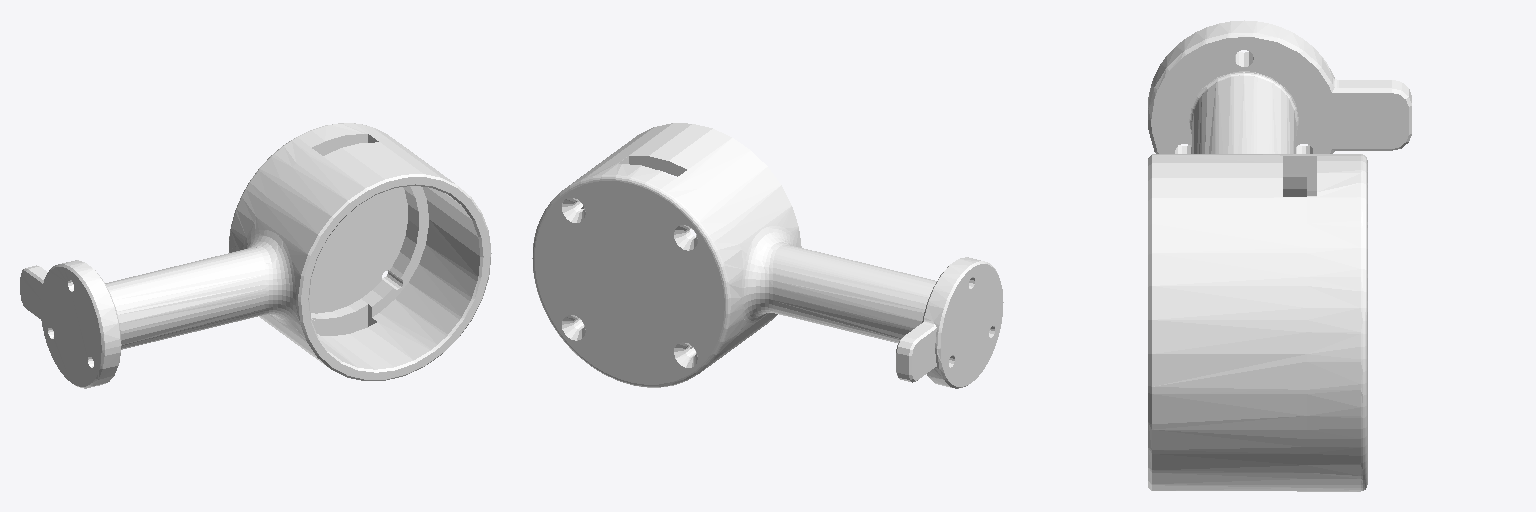
URDF robot description (mobiman/urdf/R1_PRO):
<?xml version="1.0" encoding="utf-8"?>
<!-- This URDF was automatically created by SolidWorks to URDF Exporter! Originally created by [author] ([email redacted]) 
     Commit Version: 1.6.0-4-g7f85cfe  Build Version: 1.6.7995.38578
     For more information, please see http://wiki.ros.org/sw_urdf_exporter -->
<robot
  name="mobiman/urdf/R1_PRO">
  <link
    name="torso_link4">
    <inertial>
      <origin
        xyz="-0.0025153 3.1179E-07 0.35873"
        rpy="0 0 0" />
      <mass
        value="16.778" />
      <inertia
        ixx="0.015187"
        ixy="7.199E-08"
        ixz="0.00054617"
        iyy="0.013478"
        iyz="-2.0225E-07"
        izz="0.017316" />
    </inertial>
    <visual>
      <origin
        xyz="0 0 0"
        rpy="0 0 0" />
      <geometry>
        <mesh
          filename="package://mobiman/urdf/R1_PRO/meshes/torso_link4.STL" />
      </geometry>
      <material
        name="">
        <color
          rgba="0.79216 0.81961 0.93333 1" />
      </material>
    </visual>
    <collision>
      <origin
        xyz="0 0 0"
        rpy="0 0 0" />
      <geometry>
        <mesh
          filename="package://mobiman/urdf/R1_PRO/meshes/torso_link4.STL" />
      </geometry>
    </collision>
  </link>
  <link
    name="left_arm_link1">
    <inertial>
      <origin
        xyz="0.0020734 0.00846 0.19171"
        rpy="0 0 0" />
      <mass
        value="1.319" />
      <inertia
        ixx="0.00058101"
        ixy="7.5672E-09"
        ixz="2.9207E-08"
        iyy="0.00070857"
        iyz="8.5639E-07"
        izz="0.00044583" />
    </inertial>
    <visual>
      <origin
        xyz="0 0 0"
        rpy="0 0 0" />
      <geometry>
        <mesh
          filename="package://mobiman/urdf/R1_PRO/meshes/left_arm_link1.STL" />
      </geometry>
      <material
        name="">
        <color
          rgba="0.79216 0.81961 0.93333 1" />
      </material>
    </visual>
    <collision>
      <origin
        xyz="0 0 0"
        rpy="0 0 0" />
      <geometry>
        <mesh
          filename="package://mobiman/urdf/R1_PRO/meshes/left_arm_link1.STL" />
      </geometry>
    </collision>
  </link>
  <joint
    name="left_arm_joint1"
    type="revolute">
    <origin
      xyz="-0.00033786 0.13608 0.27773"
      rpy="-1.5708 0 0" />
    <parent
      link="torso_link4" />
    <child
      link="left_arm_link1" />
    <axis
      xyz="0 0 1" />
    <limit
      lower="-2.8798"
      upper="2.8798"
      effort="40"
      velocity="20.944" />
  </joint>
  <link
    name="left_arm_link2">
    <inertial>
      <origin
        xyz="-0.23622 -0.016352 0.00013272"
        rpy="0 0 0" />
      <mass
        value="1.3" />
      <inertia
        ixx="0.00060638"
        ixy="0.000041817"
        ixz="-0.00014956"
        iyy="0.0075936"
        iyz="8.0916E-06"
        izz="0.0075712" />
    </inertial>
    <visual>
      <origin
        xyz="0 0 0"
        rpy="0 0 0" />
      <geometry>
        <mesh
          filename="package://mobiman/urdf/R1_PRO/meshes/left_arm_link2.STL" />
      </geometry>
      <material
        name="">
        <color
          rgba="0.79216 0.81961 0.93333 1" />
      </material>
    </visual>
    <collision>
      <origin
        xyz="0 0 0"
        rpy="0 0 0" />
      <geometry>
        <mesh
          filename="package://mobiman/urdf/R1_PRO/meshes/left_arm_link2.STL" />
      </geometry>
    </collision>
  </link>
  <joint
    name="left_arm_joint2"
    type="revolute">
    <origin
      xyz="0 0 0.11185"
      rpy="-1.5708 0 0" />
    <parent
      link="left_arm_link1" />
    <child
      link="left_arm_link2" />
    <axis
      xyz="0 0 1" />
    <limit
      lower="0"
      upper="3.2289"
      effort="40"
      velocity="20.944" />
  </joint>
  <link
    name="left_arm_link3">
    <inertial>
      <origin
        xyz="0.045114 -0.054616 0.00045585"
        rpy="0 0 0" />
      <mass
        value="0.818" />
      <inertia
        ixx="0.00060107"
        ixy="0.00022467"
        ixz="7.1198E-06"
        iyy="0.0013959"
        iyz="-9.7504E-06"
        izz="0.0015027" />
    </inertial>
    <visual>
      <origin
        xyz="0 0 0"
        rpy="0 0 0" />
      <geometry>
        <mesh
          filename="package://mobiman/urdf/R1_PRO/meshes/left_arm_link3.STL" />
      </geometry>
      <material
        name="">
        <color
          rgba="0.79216 0.81961 0.93333 1" />
      </material>
    </visual>
    <collision>
      <origin
        xyz="0 0 0"
        rpy="0 0 0" />
      <geometry>
        <mesh
          filename="package://mobiman/urdf/R1_PRO/meshes/left_arm_link3.STL" />
      </geometry>
    </collision>
  </link>
  <joint
    name="left_arm_joint3"
    type="revolute">
    <origin
      xyz="-0.34928 -0.019999 0"
      rpy="0 0 0" />
    <parent
      link="left_arm_link2" />
    <child
      link="left_arm_link3" />
    <axis
      xyz="0 0 1" />
    <limit
      lower="-2.7"
      upper="0"
      effort="27"
      velocity="7.5398" />
  </joint>
  <link
    name="left_arm_link4">
    <inertial>
      <origin
        xyz="8.1603E-07 -0.0023773 0.24285"
        rpy="0 0 0" />
      <mass
        value="0.816" />
      <inertia
        ixx="9.7044E-05"
        ixy="-5.3698E-09"
        ixz="-2.2378E-09"
        iyy="0.00010174"
        iyz="8.2619E-07"
        izz="8.45E-05" />
    </inertial>
    <visual>
      <origin
        xyz="0 0 0"
        rpy="0 0 0" />
      <geometry>
        <mesh
          filename="package://mobiman/urdf/R1_PRO/meshes/left_arm_link4.STL" />
      </geometry>
      <material
        name="">
        <color
          rgba="1 1 1 1" />
      </material>
    </visual>
    <collision>
      <origin
        xyz="0 0 0"
        rpy="0 0 0" />
      <geometry>
        <mesh
          filename="package://mobiman/urdf/R1_PRO/meshes/left_arm_link4.STL" />
      </geometry>
    </collision>
  </link>
  <joint
    name="left_arm_joint4"
    type="revolute">
    <origin
      xyz="0.02735 -0.069767 0"
      rpy="-3.1416 1.5708 3.1416" />
    <parent
      link="left_arm_link3" />
    <child
      link="left_arm_link4" />
    <axis
      xyz="0 0 1" />
    <limit
      lower="-2.8798"
      upper="2.8798"
      effort="7"
      velocity="25.133" />
  </joint>
  <link
    name="left_arm_link5">
    <inertial>
      <origin
        xyz="0.054309 3.4828E-05 0.0011809"
        rpy="0 0 0" />
      <mass
        value="0.801" />
      <inertia
        ixx="8.3999E-05"
        ixy="3.6184E-08"
        ixz="1.6234E-05"
        iyy="0.00011332"
        iyz="-9.2707E-08"
        izz="9.8499E-05" />
    </inertial>
    <visual>
      <origin
        xyz="0 0 0"
        rpy="0 0 0" />
      <geometry>
        <mesh
          filename="package://mobiman/urdf/R1_PRO/meshes/left_arm_link5.STL" />
      </geometry>
      <material
        name="">
        <color
          rgba="1 1 1 1" />
      </material>
    </visual>
    <collision>
      <origin
        xyz="0 0 0"
        rpy="0 0 0" />
      <geometry>
        <mesh
          filename="package://mobiman/urdf/R1_PRO/meshes/left_arm_link5.STL" />
      </geometry>
    </collision>
  </link>
  <joint
    name="left_arm_joint5"
    type="revolute">
    <origin
      xyz="0 -0.0025 0.2463"
      rpy="1.5708 -1.5703 0.0077846" />
    <parent
      link="left_arm_link4" />
    <child
      link="left_arm_link5" />
    <axis
      xyz="0 0 1" />
    <limit
      lower="-1.6581"
      upper="1.6581"
      effort="7"
      velocity="25.133" />
  </joint>
  <link
    name="left_arm_link6">
    <inertial>
      <origin
        xyz="-1.4611E-07 6.6949E-08 -0.031107"
        rpy="0 0 0" />
      <mass
        value="0.465" />
      <inertia
        ixx="0.00016512"
        ixy="8.1954E-08"
        ixz="-5.3428E-10"
        iyy="9.8637E-05"
        iyz="-2.3917E-10"
        izz="0.00017588" />
    </inertial>
    <visual>
      <origin
        xyz="0 0 0"
        rpy="0 0 0" />
      <geometry>
        <mesh
          filename="package://mobiman/urdf/R1_PRO/meshes/left_arm_link6.STL" />
      </geometry>
      <material
        name="">
        <color
          rgba="0.82353 0.82353 1 1" />
      </material>
    </visual>
    <collision>
      <origin
        xyz="0 0 0"
        rpy="0 0 0" />
      <geometry>
        <mesh
          filename="package://mobiman/urdf/R1_PRO/meshes/left_arm_link6.STL" />
      </geometry>
    </collision>
  </link>
  <joint
    name="left_arm_joint6"
    type="revolute">
    <origin
      xyz="0.16215 6.8925E-05 -0.0024999"
      rpy="-1.5708 -0.0077846 -1.5702" />
    <parent
      link="left_arm_link5" />
    <child
      link="left_arm_link6" />
    <axis
      xyz="0 0 1" />
    <limit
      lower="-2.8798"
      upper="2.8798"
      effort="7"
      velocity="25.133" />
  </joint>
  <link
    name="left_gripper_link1">
    <inertial>
      <origin
        xyz="-0.019586 -0.0055507 -0.015071"
        rpy="0 0 0" />
      <mass
        value="0.057" />
      <inertia
        ixx="2.4057E-06"
        ixy="-5.033E-08"
        ixz="3.9941E-07"
        iyy="6.4838E-06"
        iyz="-6.7746E-08"
        izz="5.7118E-06" />
    </inertial>
    <visual>
      <origin
        xyz="0 0 0"
        rpy="0 0 0" />
      <geometry>
        <mesh
          filename="package://mobiman/urdf/R1_PRO/meshes/left_gripper_link1.STL" />
      </geometry>
      <material
        name="">
        <color
          rgba="0.82353 0.82353 1 1" />
      </material>
    </visual>
    <collision>
      <origin
        xyz="0 0 0"
        rpy="0 0 0" />
      <geometry>
        <mesh
          filename="package://mobiman/urdf/R1_PRO/meshes/left_gripper_link1.STL" />
      </geometry>
    </collision>
  </link>
  <joint
    name="left_gripper_axis1"
    type="fixed">
    <origin
      xyz="0.00012069 -0.013453 0.03689"
      rpy="1.5745 -1.5702 0.0041033" />
    <parent
      link="left_arm_link6" />
    <child
      link="left_gripper_link1" />
    <axis
      xyz="0 0 1" />
    <limit
      lower="0"
      upper="0.05"
      effort="100"
      velocity="0.25" />
  </joint>
  <link
    name="left_gripper_link2">
    <inertial>
      <origin
        xyz="-0.019593 -0.0055293 -0.015071"
        rpy="0 0 0" />
      <mass
        value="0.057" />
      <inertia
        ixx="2.4056E-06"
        ixy="-4.5884E-08"
        ixz="3.9934E-07"
        iyy="6.4839E-06"
        iyz="-6.8181E-08"
        izz="5.7118E-06" />
    </inertial>
    <visual>
      <origin
        xyz="0 0 0"
        rpy="0 0 0" />
      <geometry>
        <mesh
          filename="package://mobiman/urdf/R1_PRO/meshes/left_gripper_link2.STL" />
      </geometry>
      <material
        name="">
        <color
          rgba="0.82353 0.82353 1 1" />
      </material>
    </visual>
    <collision>
      <origin
        xyz="0 0 0"
        rpy="0 0 0" />
      <geometry>
        <mesh
          filename="package://mobiman/urdf/R1_PRO/meshes/left_gripper_link2.STL" />
      </geometry>
    </collision>
  </link>
  <joint
    name="left_gripper_axis2"
    type="fixed">
    <origin
      xyz="-0.00012054 0.013453 0.03689"
      rpy="-1.5671 -1.5702 0.0041033" />
    <parent
      link="left_arm_link6" />
    <child
      link="left_gripper_link2" />
    <axis
      xyz="0 0 1" />
    <limit
      lower="0"
      upper="0.05"
      effort="100"
      velocity="0.25" />
  </joint>
  <link
    name="right_arm_link1">
    <inertial>
      <origin
        xyz="0.0020139 0.0089421 0.19171"
        rpy="0 0 0" />
      <mass
        value="1.319" />
      <inertia
        ixx="0.00058101"
        ixy="-7.5672E-09"
        ixz="-2.9207E-08"
        iyy="0.00070857"
        iyz="8.5639E-07"
        izz="0.00044583" />
    </inertial>
    <visual>
      <origin
        xyz="0 0 0"
        rpy="0 0 0" />
      <geometry>
        <mesh
          filename="package://mobiman/urdf/R1_PRO/meshes/right_arm_link1.STL" />
      </geometry>
      <material
        name="">
        <color
          rgba="0.79216 0.81961 0.93333 1" />
      </material>
    </visual>
    <collision>
      <origin
        xyz="0 0 0"
        rpy="0 0 0" />
      <geometry>
        <mesh
          filename="package://mobiman/urdf/R1_PRO/meshes/right_arm_link1.STL" />
      </geometry>
    </collision>
  </link>
  <joint
    name="right_arm_joint1"
    type="fixed">
    <origin
      xyz="-0.0003367 -0.13609 0.27773"
      rpy="1.5786 -0.00054698 0" />
    <parent
      link="torso_link4" />
    <child
      link="right_arm_link1" />
    <axis
      xyz="0 0.007783 0.99997" />
    <limit
      lower="-2.8798"
      upper="2.8798"
      effort="40"
      velocity="20.944" />
  </joint>
  <link
    name="right_arm_link2">
    <inertial>
      <origin
        xyz="-0.23622 -0.016354 0.00013181"
        rpy="0 0 0" />
      <mass
        value="1.3" />
      <inertia
        ixx="0.00060639"
        ixy="-0.00041823"
        ixz="-0.00014959"
        iyy="0.0075936"
        iyz="-8.0946E-06"
        izz="0.0075712" />
    </inertial>
    <visual>
      <origin
        xyz="0 0 0"
        rpy="0 0 0" />
      <geometry>
        <mesh
          filename="package://mobiman/urdf/R1_PRO/meshes/right_arm_link2.STL" />
      </geometry>
      <material
        name="">
        <color
          rgba="0.79216 0.81961 0.93333 1" />
      </material>
    </visual>
    <collision>
      <origin
        xyz="0 0 0"
        rpy="0 0 0" />
      <geometry>
        <mesh
          filename="package://mobiman/urdf/R1_PRO/meshes/right_arm_link2.STL" />
      </geometry>
    </collision>
  </link>
  <joint
    name="right_arm_joint2"
    type="fixed">
    <origin
      xyz="0 0.00087053 0.11185"
      rpy="-1.5786 0 -0.00054696" />
    <parent
      link="right_arm_link1" />
    <child
      link="right_arm_link2" />
    <axis
      xyz="0 0 1" />
    <limit
      lower="0"
      upper="3.2289"
      effort="40"
      velocity="20.944" />
  </joint>
  <link
    name="right_arm_link3">
    <inertial>
      <origin
        xyz="0.045115 -0.054616 0.00045605"
        rpy="0 0 0" />
      <mass
        value="0.818" />
      <inertia
        ixx="0.00060107"
        ixy="0.00022466"
        ixz="7.1151E-06"
        iyy="0.0013959"
        iyz="-9.7494E-06"
        izz="0.0015027" />
    </inertial>
    <visual>
      <origin
        xyz="0 0 0"
        rpy="0 0 0" />
      <geometry>
        <mesh
          filename="package://mobiman/urdf/R1_PRO/meshes/right_arm_link3.STL" />
      </geometry>
      <material
        name="">
        <color
          rgba="0.79216 0.81961 0.93333 1" />
      </material>
    </visual>
    <collision>
      <origin
        xyz="0 0 0"
        rpy="0 0 0" />
      <geometry>
        <mesh
          filename="package://mobiman/urdf/R1_PRO/meshes/right_arm_link3.STL" />
      </geometry>
    </collision>
  </link>
  <joint
    name="right_arm_joint3"
    type="fixed">
    <origin
      xyz="-0.34928 -0.020001 0"
      rpy="0 0 0" />
    <parent
      link="right_arm_link2" />
    <child
      link="right_arm_link3" />
    <axis
      xyz="0 0 1" />
    <limit
      lower="-3.3161"
      upper="0"
      effort="27"
      velocity="7.5398" />
  </joint>
  <link
    name="right_arm_link4">
    <inertial>
      <origin
        xyz="-8.1603E-07 0.0023773 0.24285"
        rpy="0 0 0" />
      <mass
        value="0.816" />
      <inertia
        ixx="9.7044E-05"
        ixy="-5.3698E-09"
        ixz="2.2378E-09"
        iyy="0.00010174"
        iyz="-8.2619E-07"
        izz="8.45E-05" />
    </inertial>
    <visual>
      <origin
        xyz="0 0 0"
        rpy="0 0 0" />
      <geometry>
        <mesh
          filename="package://mobiman/urdf/R1_PRO/meshes/right_arm_link4.STL" />
      </geometry>
      <material
        name="">
        <color
          rgba="1 1 1 1" />
      </material>
    </visual>
    <collision>
      <origin
        xyz="0 0 0"
        rpy="0 0 0" />
      <geometry>
        <mesh
          filename="package://mobiman/urdf/R1_PRO/meshes/right_arm_link4.STL" />
      </geometry>
    </collision>
  </link>
  <joint
    name="right_arm_joint4"
    type="fixed">
    <origin
      xyz="0.02735 -0.069767 0"
      rpy="0 -1.5708 3.1416" />
    <parent
      link="right_arm_link3" />
    <child
      link="right_arm_link4" />
    <axis
      xyz="0 0 1" />
    <limit
      lower="-2.8798"
      upper="2.8798"
      effort="7"
      velocity="25.133" />
  </joint>
  <link
    name="right_arm_link5">
    <inertial>
      <origin
        xyz="0.054309 -2.4377E-05 0.0011809"
        rpy="0 0 0" />
      <mass
        value="0.801" />
      <inertia
        ixx="8.4E-05"
        ixy="6.8153E-08"
        ixz="1.6234E-05"
        iyy="0.00011332"
        iyz="-1.104E-07"
        izz="9.8499E-05" />
    </inertial>
    <visual>
      <origin
        xyz="0 0 0"
        rpy="0 0 0" />
      <geometry>
        <mesh
          filename="package://mobiman/urdf/R1_PRO/meshes/right_arm_link5.STL" />
      </geometry>
      <material
        name="">
        <color
          rgba="1 1 1 1" />
      </material>
    </visual>
    <collision>
      <origin
        xyz="0 0 0"
        rpy="0 0 0" />
      <geometry>
        <mesh
          filename="package://mobiman/urdf/R1_PRO/meshes/right_arm_link5.STL" />
      </geometry>
    </collision>
  </link>
  <joint
    name="right_arm_joint5"
    type="fixed">
    <origin
      xyz="0 0.0025 0.2463"
      rpy="-1.5708 -1.5703 0.0077846" />
    <parent
      link="right_arm_link4" />
    <child
      link="right_arm_link5" />
    <axis
      xyz="0 0 1" />
    <limit
      lower="-1.6581"
      upper="1.6581"
      effort="7"
      velocity="25.133" />
  </joint>
  <link
    name="right_arm_link6">
    <inertial>
      <origin
        xyz="-2.223E-08 -5.7207E-08 -0.031107"
        rpy="0 0 0" />
      <mass
        value="0.465" />
      <inertia
        ixx="0.00016512"
        ixy="-4.3557E-07"
        ixz="-5.7705E-10"
        iyy="9.864E-05"
        iyz="7.4373E-11"
        izz="0.00017588" />
    </inertial>
    <visual>
      <origin
        xyz="0 0 0"
        rpy="0 0 0" />
      <geometry>
        <mesh
          filename="package://mobiman/urdf/R1_PRO/meshes/right_arm_link6.STL" />
      </geometry>
      <material
        name="">
        <color
          rgba="0.82353 0.82353 1 1" />
      </material>
    </visual>
    <collision>
      <origin
        xyz="0 0 0"
        rpy="0 0 0" />
      <geometry>
        <mesh
          filename="package://mobiman/urdf/R1_PRO/meshes/right_arm_link6.STL" />
      </geometry>
    </collision>
  </link>
  <joint
    name="right_arm_joint6"
    type="fixed">
    <origin
      xyz="0.16215 -0.00010784 -0.0024999"
      rpy="1.5708 0 1.5703" />
    <parent
      link="right_arm_link5" />
    <child
      link="right_arm_link6" />
    <axis
      xyz="0 0 1" />
    <limit
      lower="-2.8798"
      upper="2.8798"
      effort="7"
      velocity="25.133" />
  </joint>
  <link
    name="right_gripper_link1">
    <inertial>
      <origin
        xyz="-0.019593 -0.0055293 -0.015071"
        rpy="0 0 0" />
      <mass
        value="0.057" />
      <inertia
        ixx="2.4056E-06"
        ixy="-4.5884E-08"
        ixz="3.9934E-07"
        iyy="6.4839E-06"
        iyz="-6.8181E-08"
        izz="5.7118E-06" />
    </inertial>
    <visual>
      <origin
        xyz="0 0 0"
        rpy="0 0 0" />
      <geometry>
        <mesh
          filename="package://mobiman/urdf/R1_PRO/meshes/right_gripper_link1.STL" />
      </geometry>
      <material
        name="">
        <color
          rgba="0.82353 0.82353 1 1" />
      </material>
    </visual>
    <collision>
      <origin
        xyz="0 0 0"
        rpy="0 0 0" />
      <geometry>
        <mesh
          filename="package://mobiman/urdf/R1_PRO/meshes/right_gripper_link1.STL" />
      </geometry>
    </collision>
  </link>
  <joint
    name="right_gripper_axis1"
    type="fixed">
    <origin
      xyz="-1.5963E-05 0.013454 0.03689"
      rpy="-1.5745 -1.5703 0.0037081" />
    <parent
      link="right_arm_link6" />
    <child
      link="right_gripper_link1" />
    <axis
      xyz="0 0 1" />
    <limit
      lower="0"
      upper="0.05"
      effort="100"
      velocity="0.25" />
  </joint>
  <link
    name="right_gripper_link2">
    <inertial>
      <origin
        xyz="-0.019586 -0.0055507 -0.015071"
        rpy="0 0 0" />
      <mass
        value="0.057" />
      <inertia
        ixx="2.4057E-06"
        ixy="-5.033E-08"
        ixz="3.9941E-07"
        iyy="6.4838E-06"
        iyz="-6.7746E-08"
        izz="5.7118E-06" />
    </inertial>
    <visual>
      <origin
        xyz="0 0 0"
        rpy="0 0 0" />
      <geometry>
        <mesh
          filename="package://mobiman/urdf/R1_PRO/meshes/right_gripper_link2.STL" />
      </geometry>
      <material
        name="">
        <color
          rgba="0.82353 0.82353 1 1" />
      </material>
    </visual>
    <collision>
      <origin
        xyz="0 0 0"
        rpy="0 0 0" />
      <geometry>
        <mesh
          filename="package://mobiman/urdf/R1_PRO/meshes/right_gripper_link2.STL" />
      </geometry>
    </collision>
  </link>
  <joint
    name="right_gripper_axis2"
    type="fixed">
    <origin
      xyz="1.5816E-05 -0.013454 0.03689"
      rpy="1.5671 -1.5703 0.0037081" />
    <parent
      link="right_arm_link6" />
    <child
      link="right_gripper_link2" />
    <axis
      xyz="0 0 1" />
    <limit
      lower="0"
      upper="0.05"
      effort="100"
      velocity="0.25" />
  </joint>
</robot>

--- Facts derived from the render (not from the file) ---
3 views of the same robot in one strip: view 1: azimuth 30°, elevation 25°; view 2: azimuth 150°, elevation 25°; view 3: azimuth 270°, elevation 25° (orthographic).
Model mobiman/urdf/R1_PRO with 17 links and 16 joints (6 revolute, 10 fixed), rooted at torso_link4, posed all joints at 0.
Visible links, largest first — view 1: right_arm_link4; view 2: right_arm_link4; view 3: right_arm_link4.
Boxes of the visible links, left/top/right/bottom form: right_arm_link4: left=20, top=123, right=491, bottom=388; right_arm_link4: left=532, top=123, right=1003, bottom=388; right_arm_link4: left=1148, top=20, right=1411, bottom=491.
Bounding box of the posed robot: 0.0987 × 0.0384 × 0.049 m (x, y, z).
1 mesh visuals loaded from 17 distinct referenced files (1 binary STL); not drawn: 16 (reference not matched to a file when rendering).